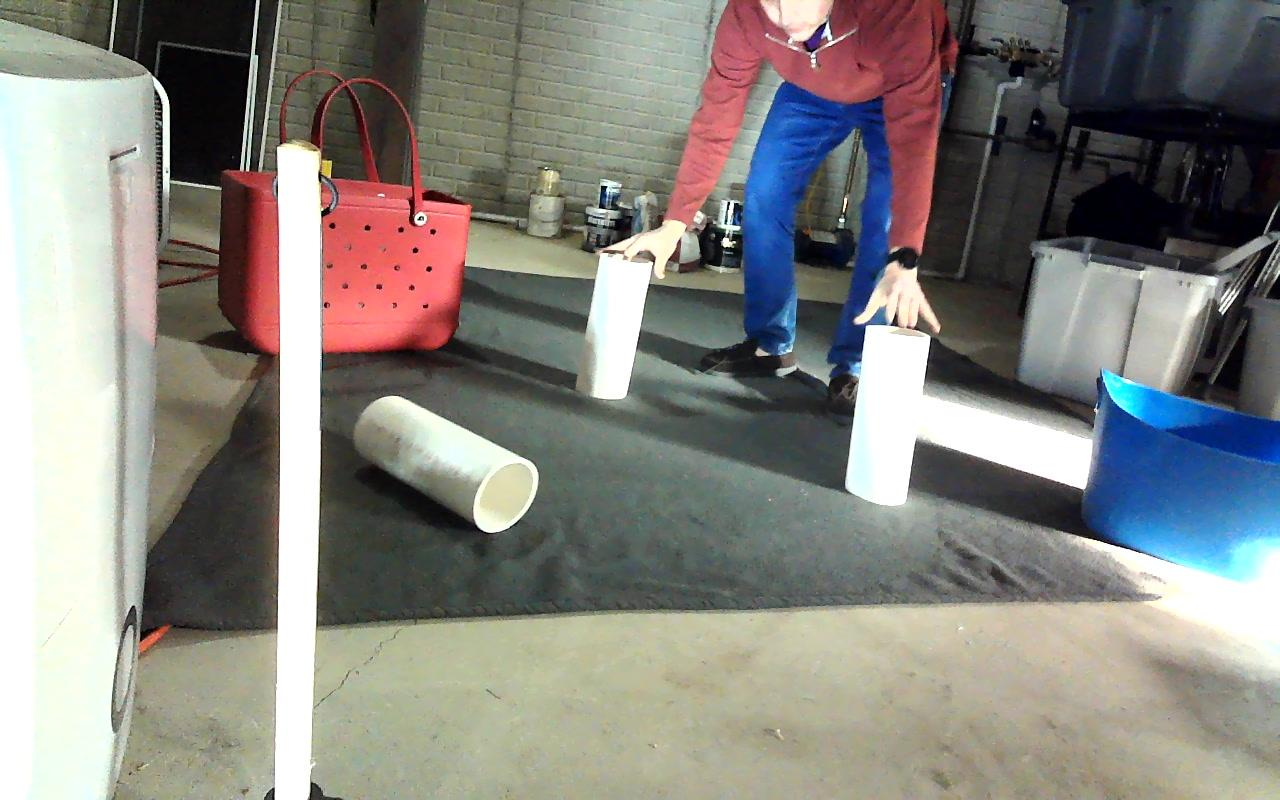coral: (354, 394, 538, 531), (844, 325, 931, 505), (584, 252, 650, 399)
